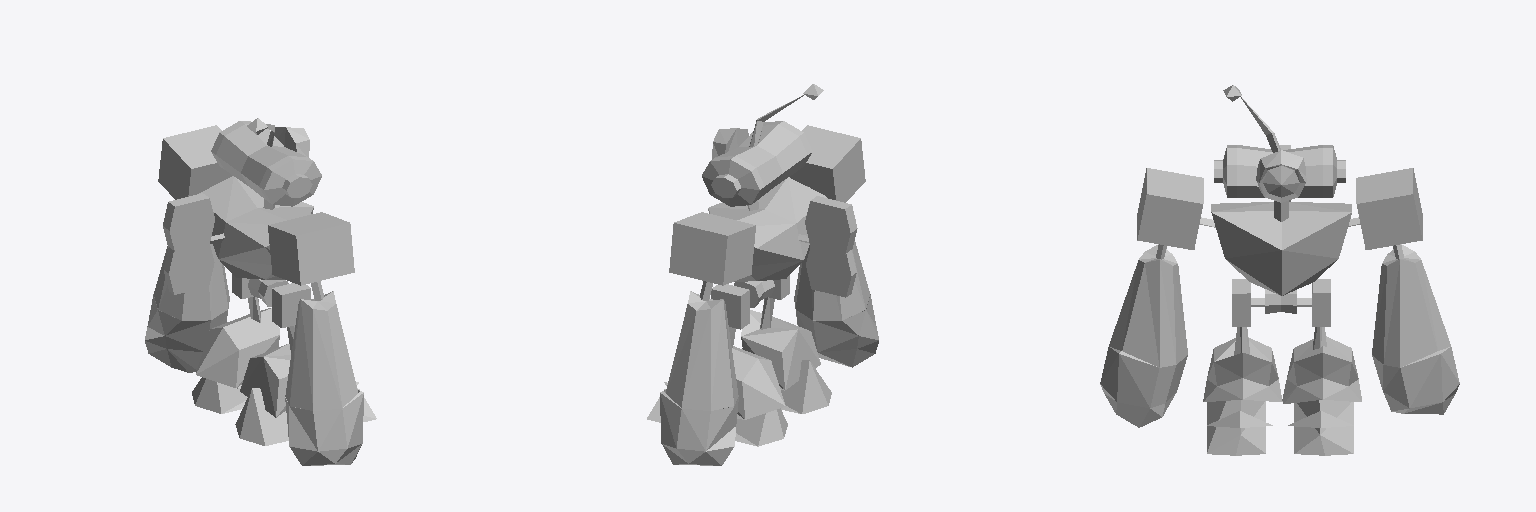
Rendered from toy_robot_low_blue.obj.
The picture shows the model from 3 angles: view 1: azimuth 30°, elevation 25°; view 2: azimuth 150°, elevation 25°; view 3: azimuth 270°, elevation 25°; orthographic projection.
Parts seen in each view (by area): view 1: Toy_Robot_Low_Blue; view 2: Toy_Robot_Low_Blue; view 3: Toy_Robot_Low_Blue.
Part boxes in pixels (x1,y1,x2,y2): Toy_Robot_Low_Blue: (145,118,376,465); Toy_Robot_Low_Blue: (647,84,878,465); Toy_Robot_Low_Blue: (1100,85,1459,455).
Size of the model in its own units: 0.6575 by 1.15 by 1.16.